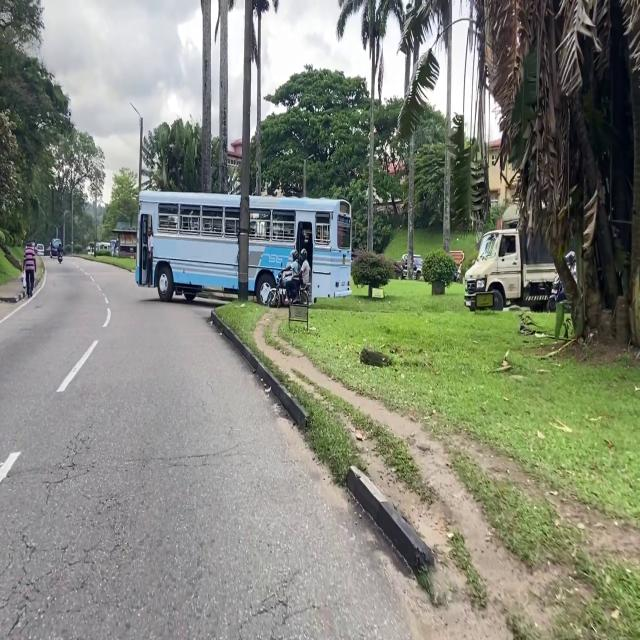bus: (136, 191, 351, 303)
motorcycle: (266, 272, 309, 308), (547, 276, 566, 311), (58, 251, 62, 263)
person: (291, 248, 310, 297), (23, 241, 37, 299), (285, 249, 298, 302), (565, 251, 577, 283), (147, 228, 153, 285), (58, 228, 64, 255)
truck: (465, 228, 556, 310), (395, 254, 423, 281)
van: (51, 238, 60, 258), (36, 244, 44, 255)
